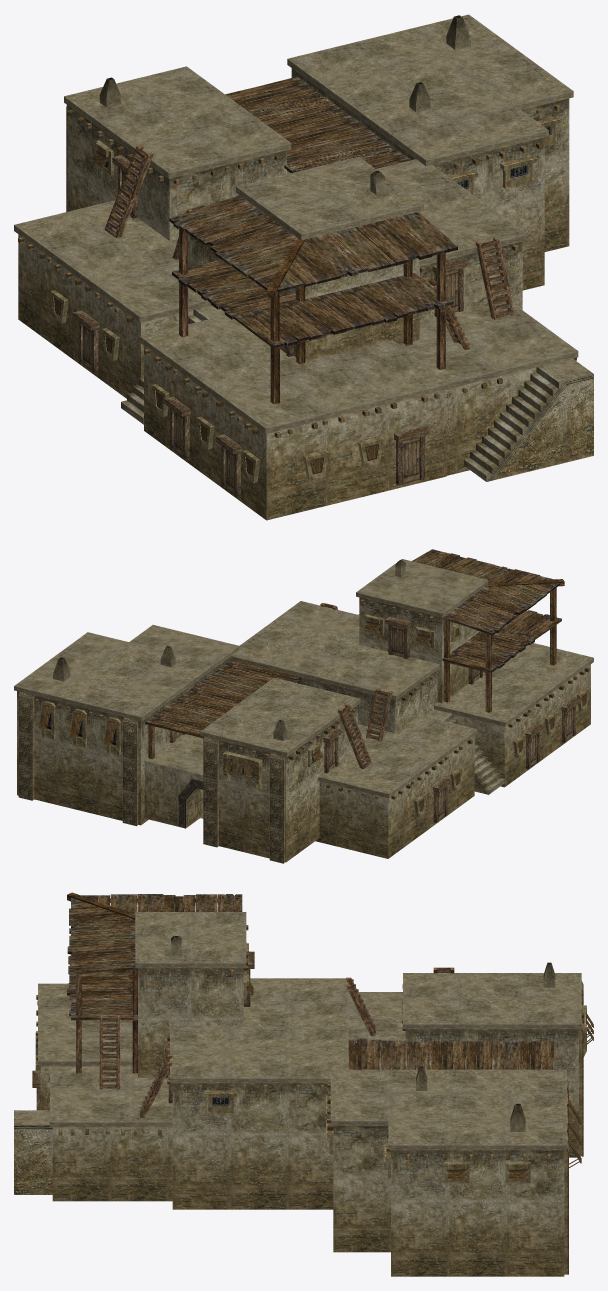
File: hrt_yard1.glb
3 renders of one model, top to bottom at view 1: azimuth 30°, elevation 25°; view 2: azimuth 150°, elevation 25°; view 3: azimuth 270°, elevation 25°, orthographic. The views are drawn at different scales.
Parts seen in each view (by area): view 1: hrt_yard1-col; view 2: hrt_yard1-col; view 3: hrt_yard1-col.
Boxes of the visible parts, x1=… form: hrt_yard1-col: x1=14, y1=14, x2=593, y2=520; hrt_yard1-col: x1=14, y1=549, x2=593, y2=863; hrt_yard1-col: x1=14, y1=892, x2=593, y2=1276.
Size of the model in its own units: 22.5 by 10.21 by 25.14.
Materials: 22 (22 with a texture image).
